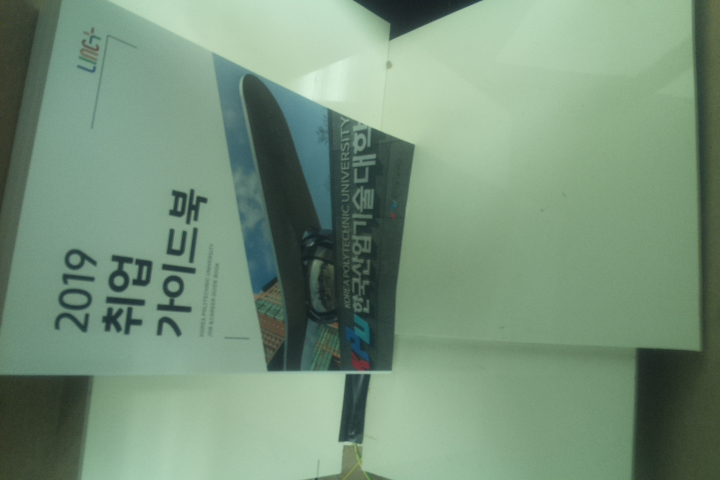book: (1, 1, 416, 378)
